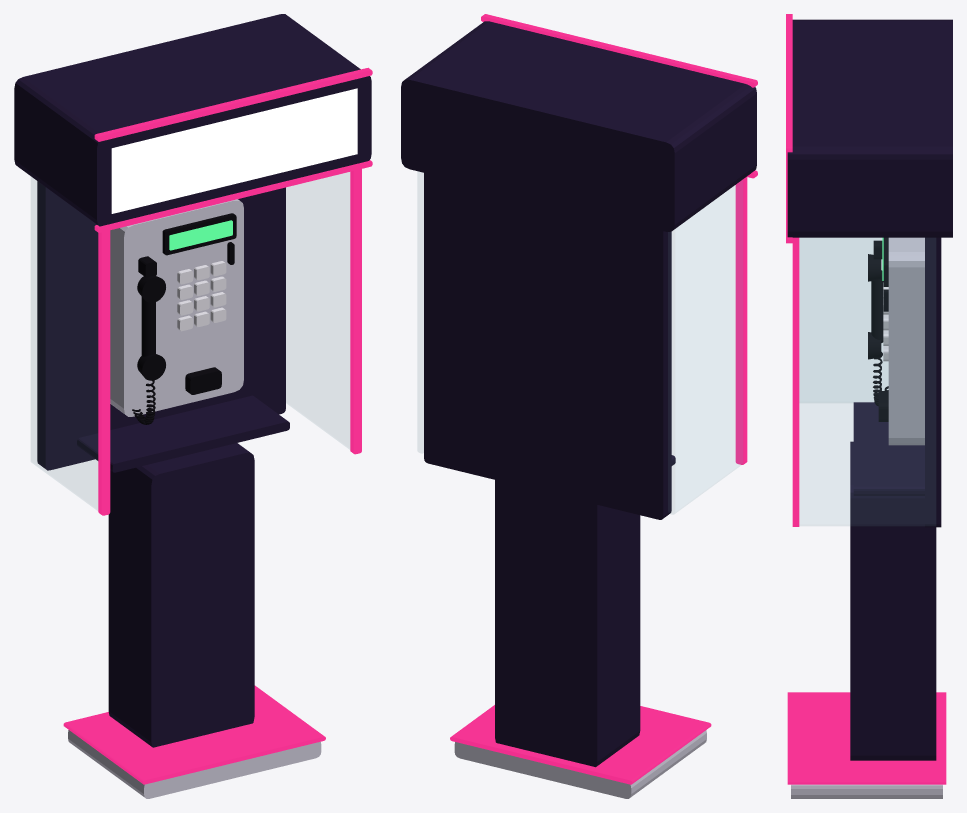
Rendered from payphone.glb.
3 views of the same model, side by side, from view 1: azimuth 30°, elevation 25°; view 2: azimuth 150°, elevation 25°; view 3: azimuth 270°, elevation 25° (orthographic).
Parts seen in each view (by area): view 1: Pillar, SignBox, Glass (×2), BackPanel, Housing, Sign, BaseGlow, Shelf, Trim_Edge (×2), Base, Keypad, Trim_SignHigh (+5 smaller); view 2: BackPanel, SignBox, Pillar, Glass (×2), BaseGlow, Base, Trim_Edge, Trim_SignHigh; view 3: Glass, SignBox, Pillar, BaseGlow, Housing, Shelf, BackPanel, Trim_Edge, Base, Trim_SignHigh, Grip, Keypad (+3 smaller).
Boxes of the visible parts, bbox=[...] form: Pillar: bbox=[108, 443, 254, 747]; SignBox: bbox=[14, 14, 371, 226]; Glass (×2): bbox=[31, 172, 349, 509]; BackPanel: bbox=[37, 181, 285, 470]; Housing: bbox=[110, 199, 243, 416]; Sign: bbox=[111, 88, 357, 213]; BaseGlow: bbox=[63, 685, 325, 784]; Shelf: bbox=[77, 395, 289, 472]; Trim_Edge (×2): bbox=[98, 169, 361, 515]; Base: bbox=[68, 730, 321, 798]; Keypad: bbox=[177, 261, 226, 331]; Trim_SignHigh: bbox=[94, 67, 372, 141]; BackPanel: bbox=[424, 173, 671, 519]; SignBox: bbox=[401, 21, 756, 231]; Pillar: bbox=[495, 480, 640, 767]; Glass (×2): bbox=[418, 172, 742, 513]; BaseGlow: bbox=[450, 705, 711, 784]; Base: bbox=[454, 730, 706, 798]; Trim_Edge: bbox=[735, 176, 747, 464]; Trim_SignHigh: bbox=[481, 14, 757, 87]; Glass: bbox=[800, 238, 935, 525]; SignBox: bbox=[787, 19, 952, 237]; Pillar: bbox=[850, 441, 936, 760]; BaseGlow: bbox=[787, 692, 946, 784]; Housing: bbox=[888, 237, 924, 445]; Shelf: bbox=[853, 402, 924, 495]; BackPanel: bbox=[925, 237, 941, 527]; Trim_Edge: bbox=[792, 237, 799, 526]; Base: bbox=[791, 784, 942, 798]; Trim_SignHigh: bbox=[786, 14, 792, 152]; Grip: bbox=[871, 270, 883, 342]; Keypad: bbox=[883, 282, 888, 361].
Size of the model in its own units: 0.96 by 2.26 by 0.505.
